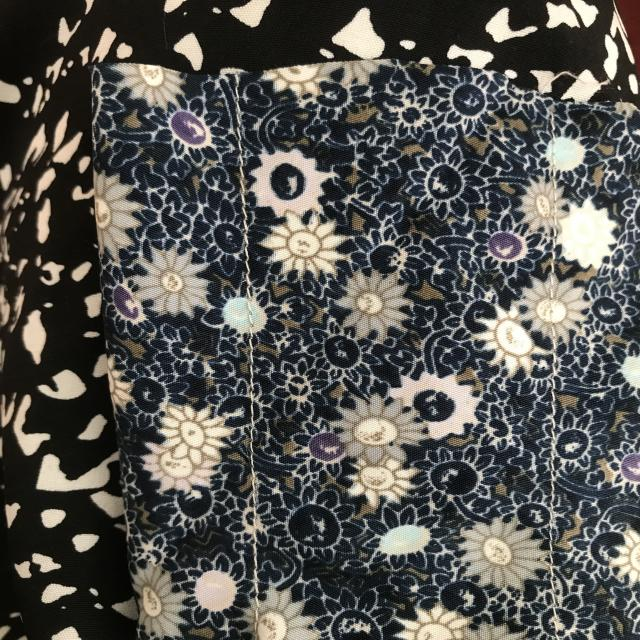good: (241, 366, 259, 465)
